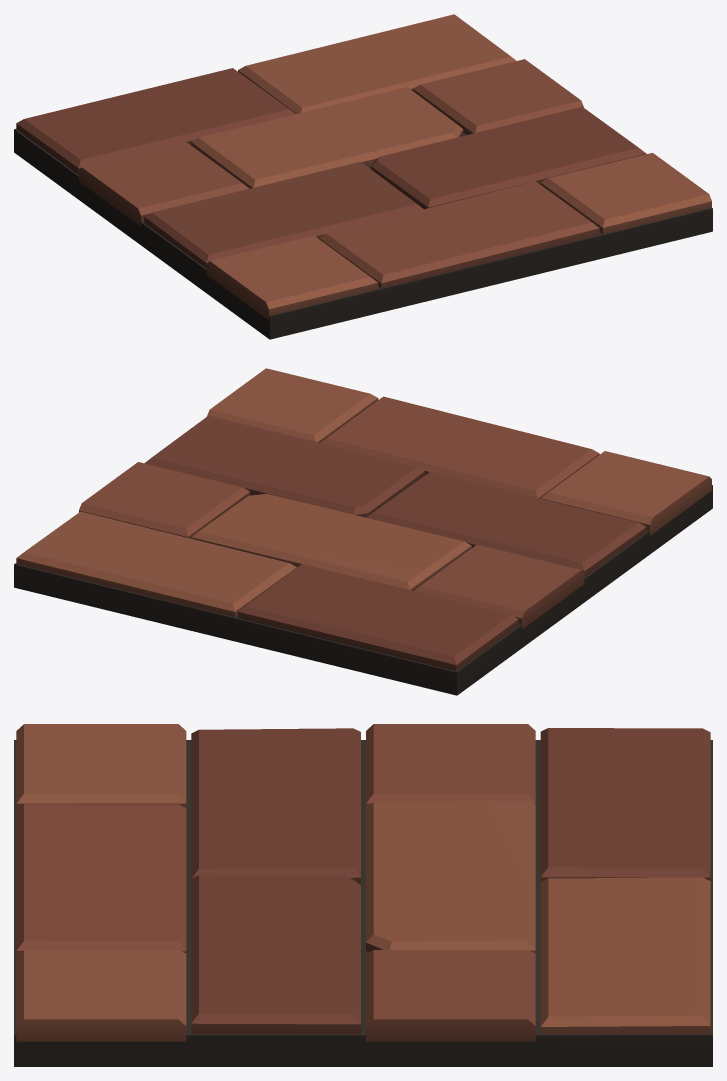
File: floor_bricks_small_B.glb
3 renders of one model, top to bottom at view 1: azimuth 30°, elevation 25°; view 2: azimuth 150°, elevation 25°; view 3: azimuth 270°, elevation 25°, orthographic. The views are drawn at different scales.
Visible parts, largest first — view 1: Item; view 2: Item; view 3: Item.
Boxes of the visible parts, bbox=[...] form: Item: bbox=[14, 14, 712, 339]; Item: bbox=[14, 368, 712, 695]; Item: bbox=[14, 724, 712, 1066].
Size of the model in its own units: 2 by 0.1548 by 2.
Materials: 1 (1 with a texture image).
